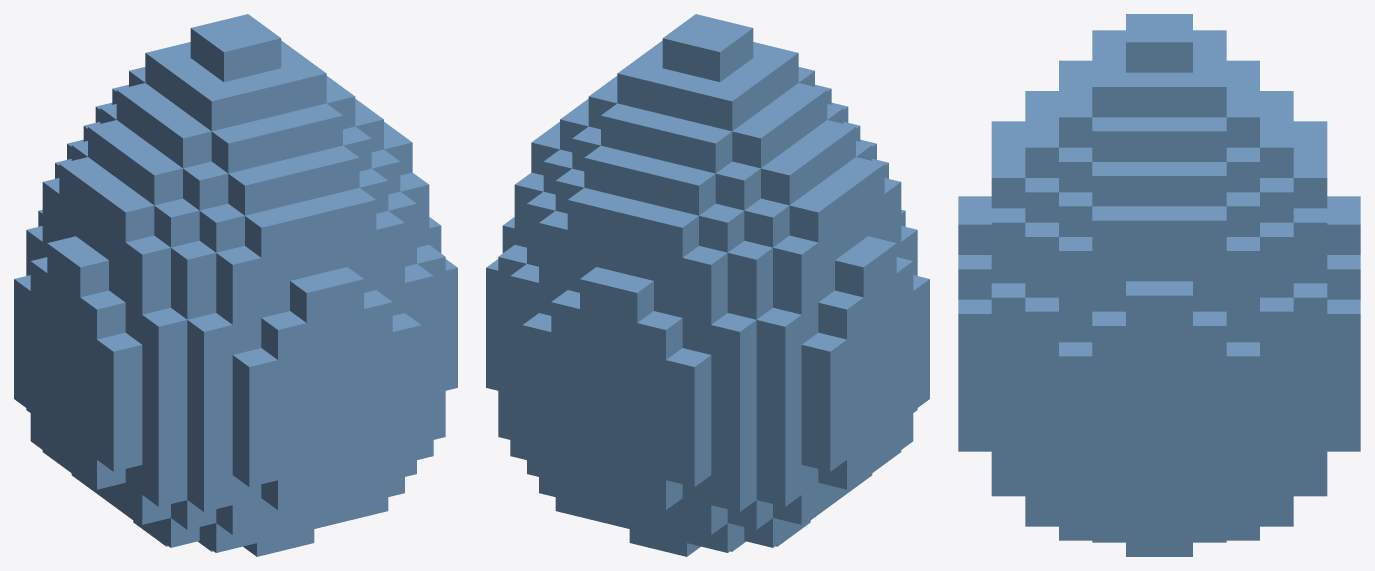
The model's file is Blue_Egg.glb.
3 views of the same model, side by side, from view 1: azimuth 30°, elevation 25°; view 2: azimuth 150°, elevation 25°; view 3: azimuth 270°, elevation 25° (orthographic).
Visible parts, largest first — view 1: Cube_copy_copy_copy_copy_copy_copy_copy_copy_copy_copy_copy_ (×71), Cube_copy_1, Cube_copy_copy_copy_6, Cube_copy_copy_copy, Cube_copy_copy_copy_copy_copy_copy_copy_copy_copy, Cube_copy_copy_copy_9, Cube_copy_copy_copy_copy_copy_5, Cube_copy_4, Cube_copy_copy_copy_2, Cube_copy_copy_copy_copy_copy_copy_copy_copy_1, Cube_copy_copy_copy_copy_copy_8, Cube_copy_copy_copy_copy_copy_copy_6 (+59 smaller); view 2: Cube_copy_copy_copy_copy_copy_copy_copy_copy_copy_copy_copy_ (×71), Cube, Cube_copy_copy_copy_copy_copy_15, Cube_copy_copy_1, Cube_copy_copy_copy_copy_copy_17, Cube_copy_copy_copy_copy_copy_copy_copy_25, Cube_copy_copy_copy_20, Cube_copy_copy_4, Cube_copy_copy_copy_copy_copy_copy_copy_21, Cube_copy_copy_copy_copy_copy_copy_24, Cube_copy_copy_copy_copy_copy_copy_21, Cube_copy_copy_copy_copy_copy_copy_copy_copy_22 (+59 smaller); view 3: Cube_copy_copy_copy_copy_copy_copy_copy_copy_copy_copy_copy_ (×99), Cube_copy_copy_copy_copy_copy_copy_12, Cube_copy_copy_copy_copy_copy_copy_copy_copy_copy_copy_2, Cube_copy_copy_copy_copy_6, Cube_copy_5, Cube_copy_copy_12, Cube_copy_copy_copy_copy_copy_copy_19, Cube_copy_copy_copy_copy_18, Cube_copy_copy_8, Cube_copy_copy_copy_copy_4, Cube_copy_copy_copy_13, Cube_copy_copy_copy_copy_9 (+60 smaller).
Boxes of the visible parts, x1,y1,x2,y2 form: Cube_copy_copy_copy_copy_copy_copy_copy_copy_copy_copy_copy_ (×71): (26,21,445,552); Cube_copy_1: (80,290,125,339); Cube_copy_copy_copy_6: (290,274,335,322); Cube_copy_copy_copy: (63,248,108,297); Cube_copy_copy_copy_copy_copy_copy_copy_copy_copy: (125,235,170,284); Cube_copy_copy_copy_9: (232,348,277,396); Cube_copy_copy_copy_copy_copy_5: (142,308,187,356); Cube_copy_4: (261,311,306,359); Cube_copy_copy_copy_2: (97,332,142,381); Cube_copy_copy_copy_copy_copy_copy_copy_copy_1: (125,273,170,314); Cube_copy_copy_copy_copy_copy_8: (232,415,277,456); Cube_copy_copy_copy_copy_copy_copy_6: (142,405,187,446); Cube_copy_copy_copy_copy_copy_copy_copy_copy_copy_copy_copy_ (×71): (510,21,884,552); Cube: (818,290,863,339); Cube_copy_copy_copy_copy_copy_15: (608,274,653,322); Cube_copy_copy_1: (835,248,880,297); Cube_copy_copy_copy_copy_copy_17: (666,348,711,396); Cube_copy_copy_copy_copy_copy_copy_copy_25: (711,313,756,361); Cube_copy_copy_copy_20: (637,311,682,359); Cube_copy_copy_4: (801,332,846,381); Cube_copy_copy_copy_copy_copy_copy_copy_21: (666,415,711,456); Cube_copy_copy_copy_copy_copy_copy_24: (711,350,756,391); Cube_copy_copy_copy_copy_copy_copy_21: (666,385,711,426); Cube_copy_copy_copy_copy_copy_copy_copy_copy_22: (711,410,756,451); Cube_copy_copy_copy_copy_copy_copy_copy_copy_copy_copy_copy_ (×99): (991,14,1327,556); Cube_copy_copy_copy_copy_copy_copy_12: (991,283,1025,327); Cube_copy_copy_copy_copy_copy_copy_copy_copy_copy_copy_2: (991,208,1025,252); Cube_copy_copy_copy_copy_6: (958,299,991,344); Cube_copy_5: (1092,311,1125,356); Cube_copy_copy_12: (1193,311,1226,356); Cube_copy_copy_copy_copy_copy_copy_19: (1260,297,1293,342); Cube_copy_copy_copy_copy_18: (1327,299,1360,344); Cube_copy_copy_8: (958,255,991,299); Cube_copy_copy_copy_copy_4: (958,210,991,254); Cube_copy_copy_copy_13: (1126,281,1159,325); Cube_copy_copy_copy_copy_9: (1159,281,1192,325).
Bounding box in the file's own units: 1.2 × 1.6 × 1.2.
